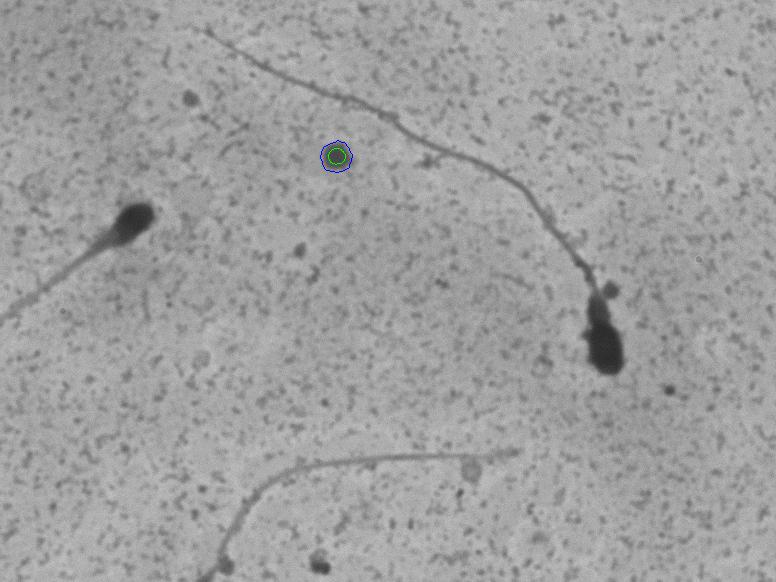Abnormal: (277, 62, 672, 395), (8, 155, 159, 358)
